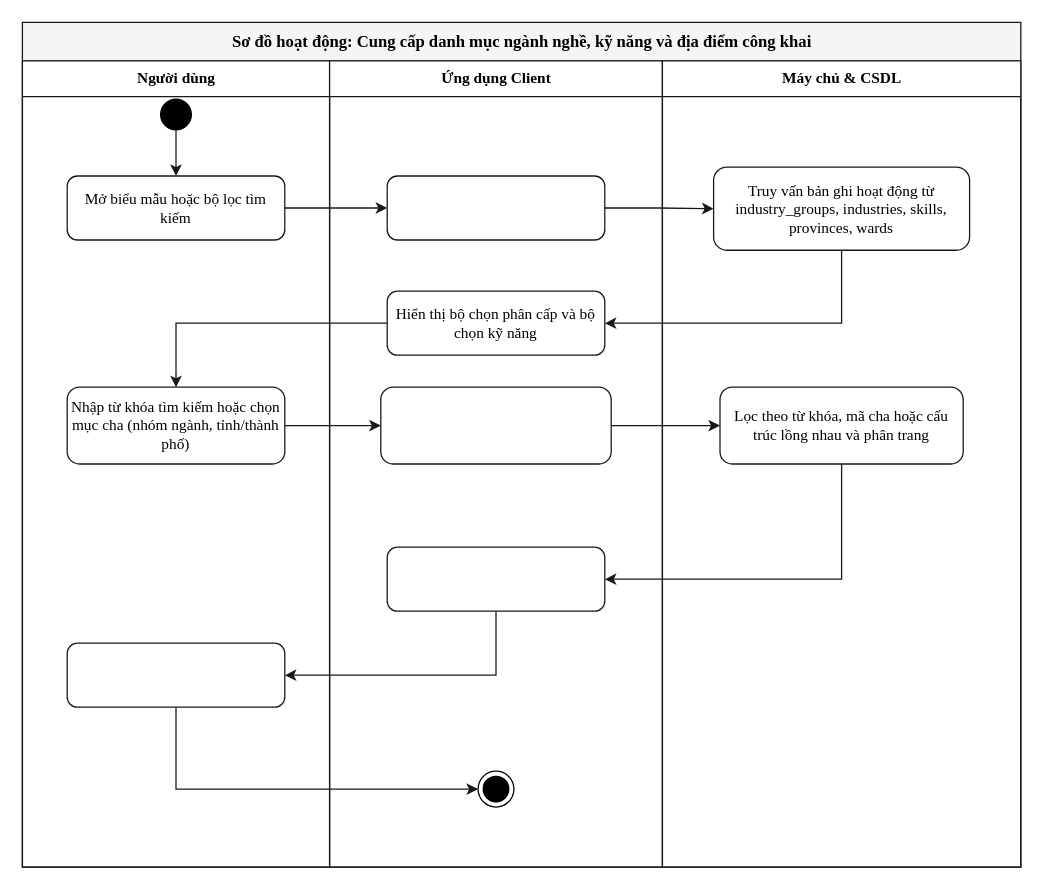
This 1043x890 diagram has some shape labels left out. Here are the shapes that lost their labels. From the top down, the centre of each, then its label:
At pixel 495 207: "Gọi API công khai nạp danh mục đang hoạt động".
At pixel 495 425: "Gửi mã mục cha (groupId, provinceId) hoặc từ khóa để lọc dữ liệu con".
At pixel 495 578: "Cập nhật danh sách lựa chọn theo kết quả phân trang".
At pixel 175 674: "Chọn ngành nghề, kỹ năng hoặc địa điểm phù hợp".
